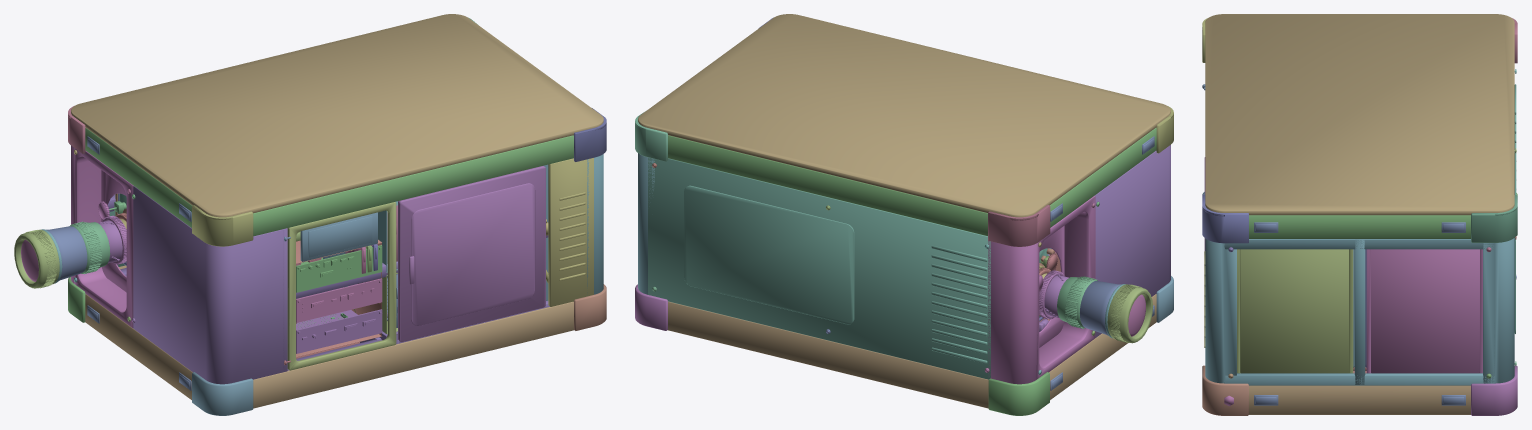
The model's file is projector-marked.glb.
3 views of the same model, side by side, from view 1: azimuth 30°, elevation 25°; view 2: azimuth 150°, elevation 25°; view 3: azimuth 270°, elevation 25° (orthographic). The views are drawn at different scales.
Visible parts, largest first — view 1: projector; view 2: projector; view 3: projector.
Boxes of the visible parts, x1,y1,x2,y2 form: projector: [14, 14, 606, 415]; projector: [635, 14, 1173, 415]; projector: [1202, 14, 1517, 415].
Bounding box in the file's own units: 1.28 × 0.547 × 0.724.
